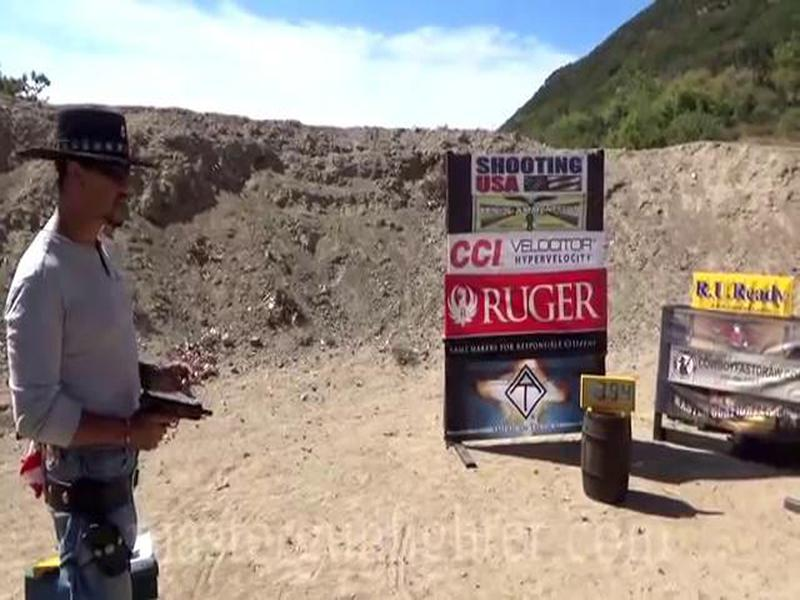Pistola: (118, 391, 217, 460)
